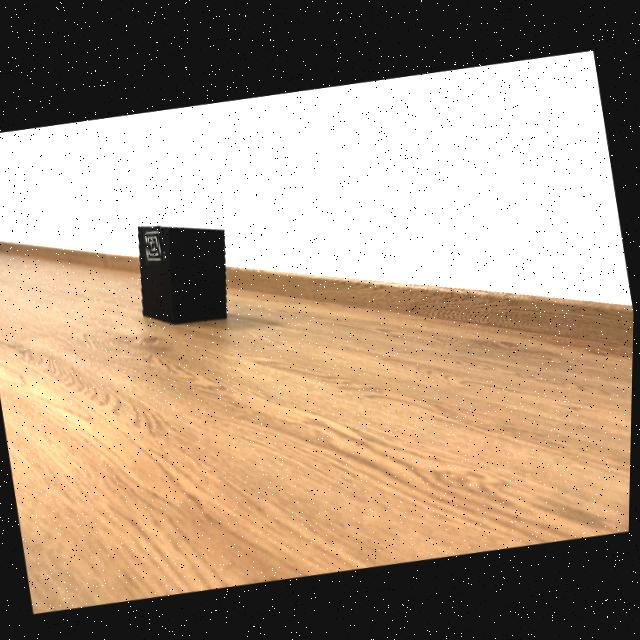BULLSEYE: (144, 224, 166, 264)
